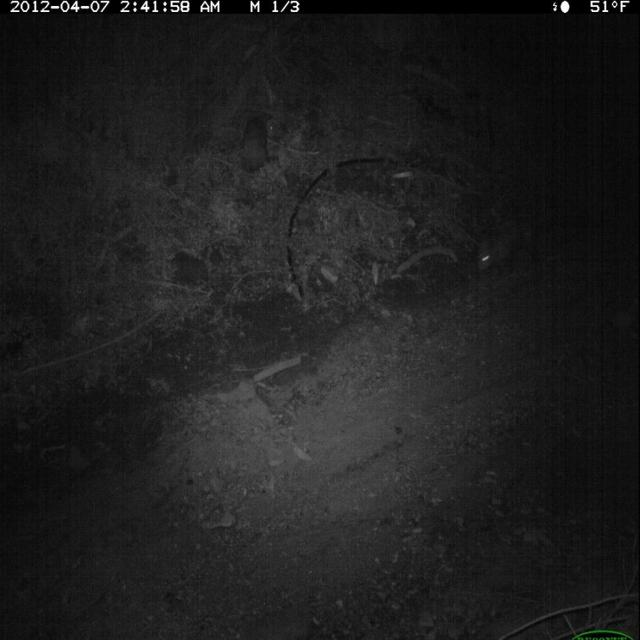opossum: (473, 209, 547, 283)
